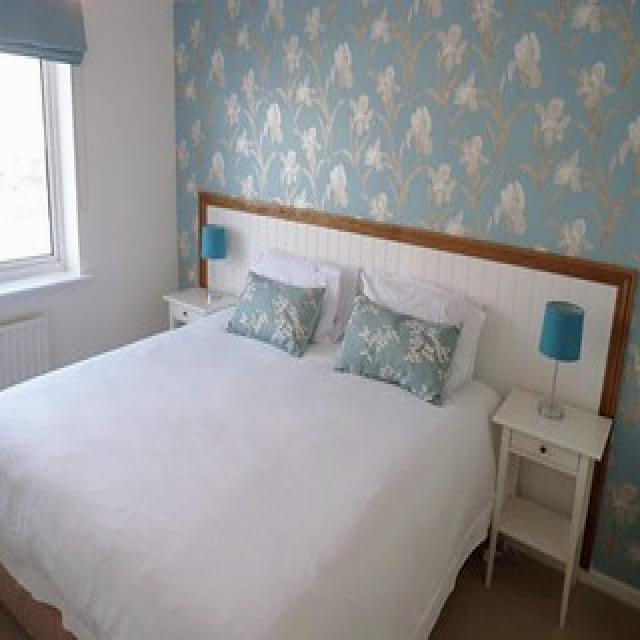bed: (0, 228, 621, 636)
